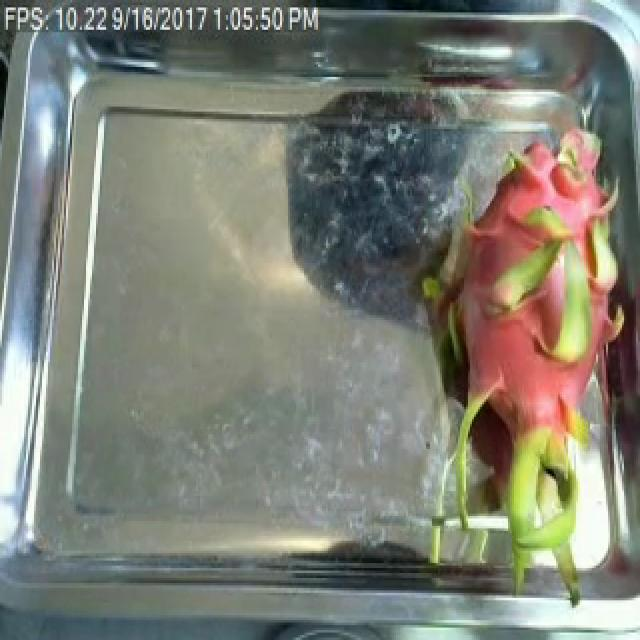fruit: (372, 139, 640, 600)
